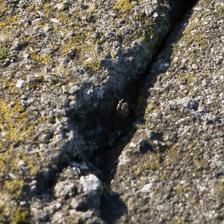Crack: (68, 5, 195, 222)
